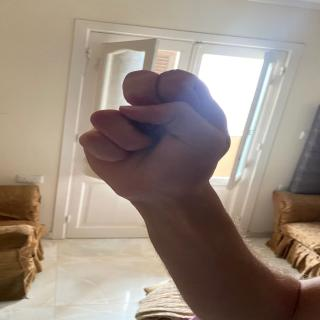QAAF: (73, 52, 242, 197)
